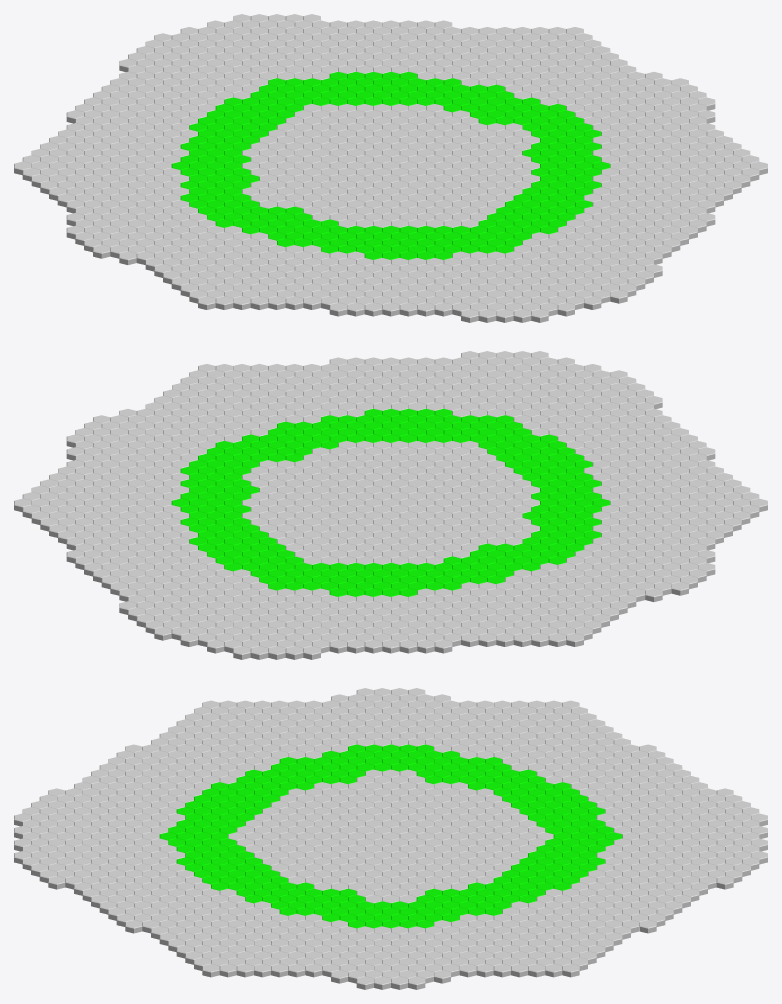
File: ArenaOne.fbx
3 renders of one model, top to bottom at view 1: azimuth 30°, elevation 25°; view 2: azimuth 150°, elevation 25°; view 3: azimuth 270°, elevation 25°, orthographic. The views are drawn at different scales.
Bounding box in the file's own units: 7100 × 60.19 × 7621.
